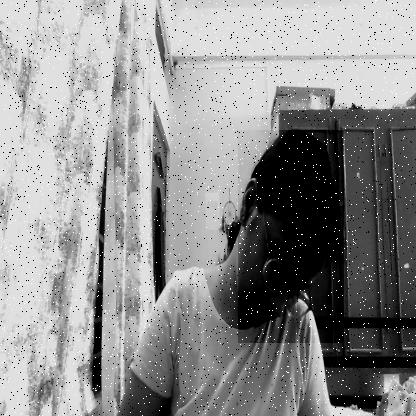Distracted: (238, 130, 344, 343)
